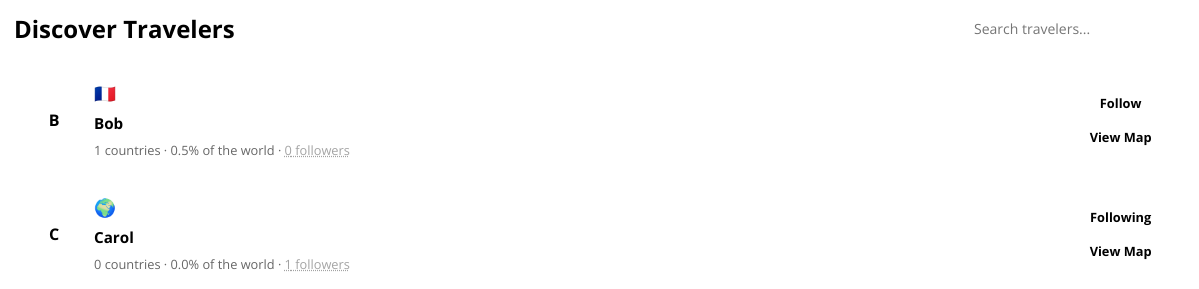
Test: HomeLoggedIn › filters traveler cards when searching
Step 1. Type "Bob" into the field with placeholder "Search travelers..." → [1072, 28], box [962, 13, 1182, 44]
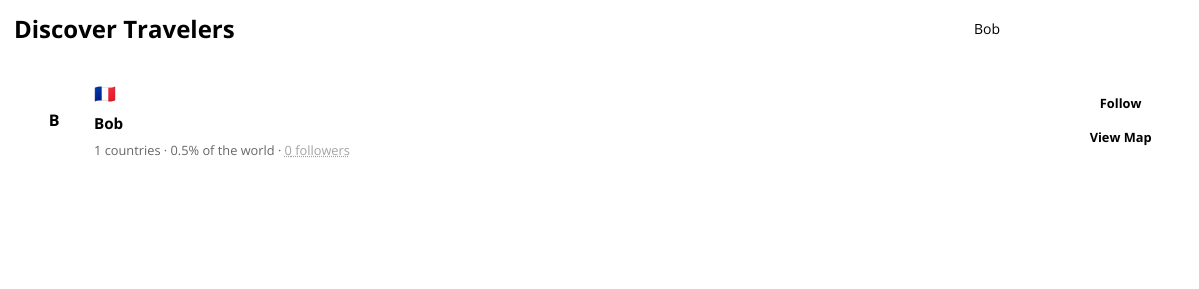
Expected: the text "Bob" is shown, [94, 113, 123, 133]
Expected: the text "Carol" is not shown
